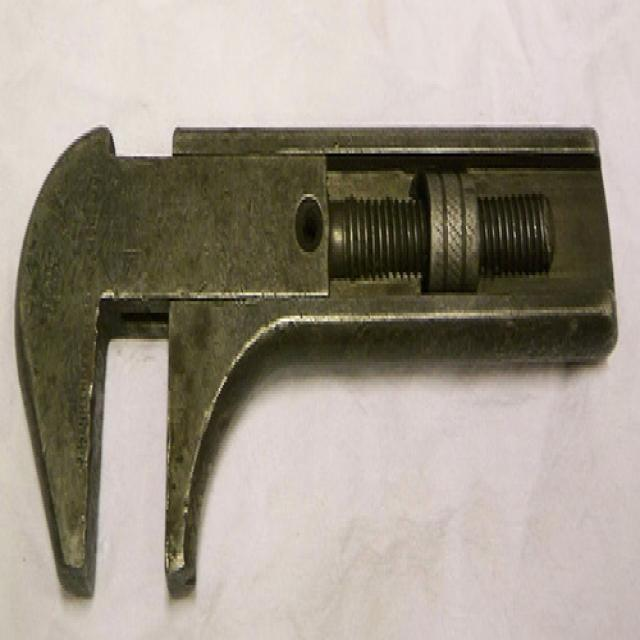wrench: (8, 114, 622, 616)
